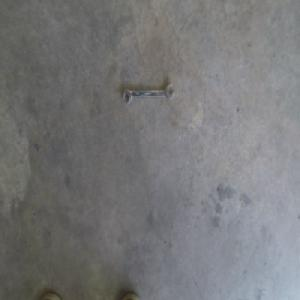Wrench: (122, 83, 175, 105)
